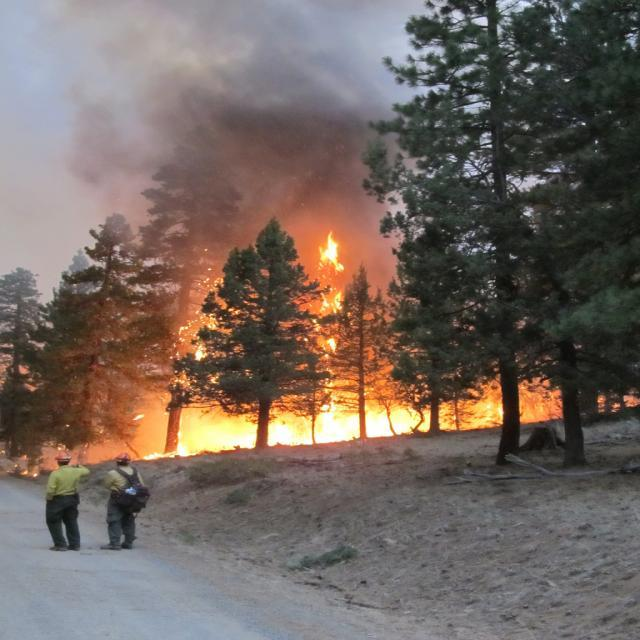Fire: (164, 414, 258, 450), (361, 412, 422, 431), (268, 416, 310, 442), (316, 231, 344, 268), (320, 417, 360, 438)
Smoke: (170, 60, 358, 198)
